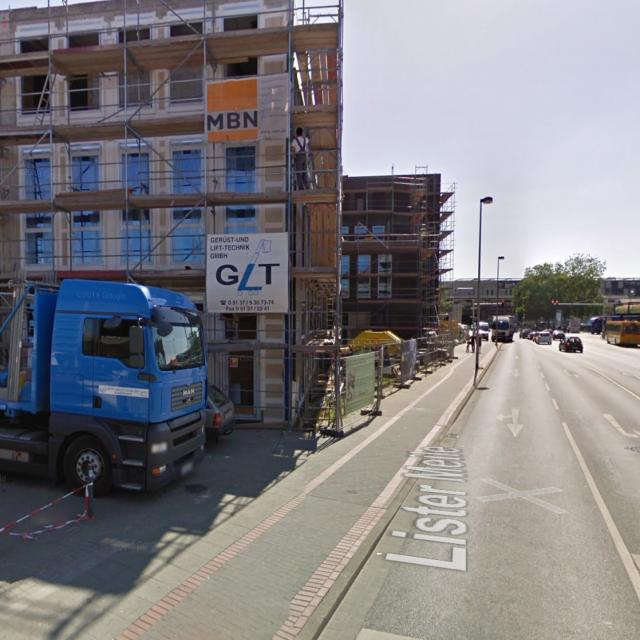Werbetafel frei: (201, 228, 297, 322), (196, 76, 299, 157), (342, 350, 380, 420), (398, 340, 420, 387)
